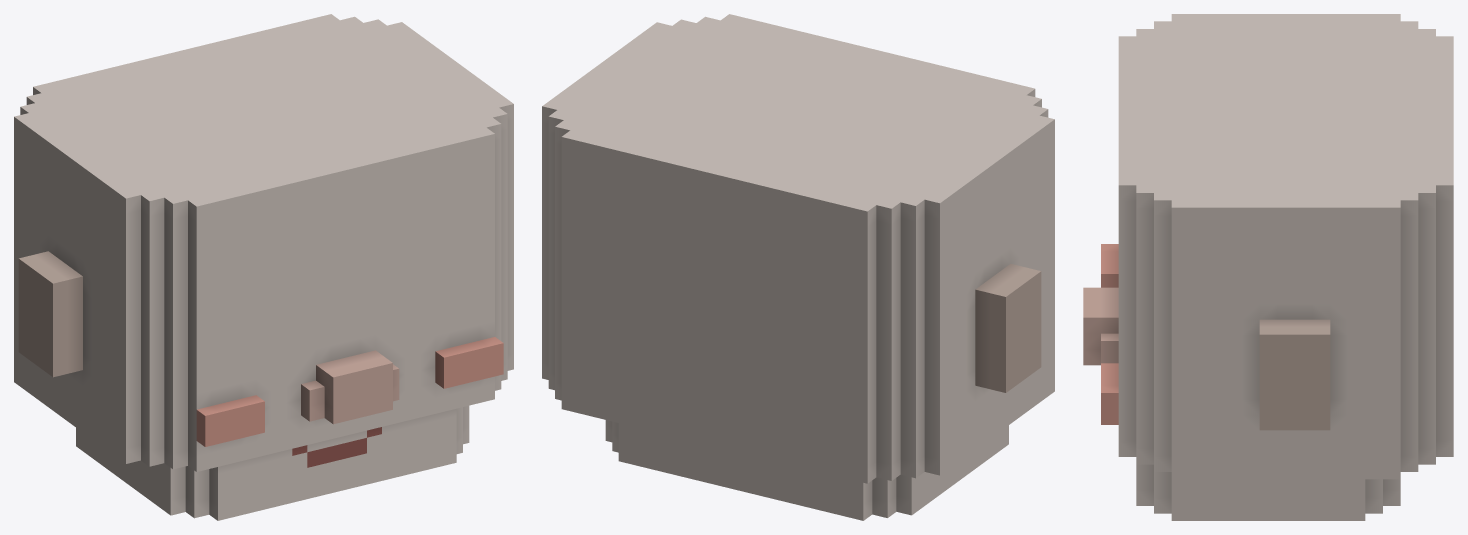
File: head_young.glb
The picture shows the model from 3 angles, left to right: view 1: azimuth 30°, elevation 25°; view 2: azimuth 150°, elevation 25°; view 3: azimuth 270°, elevation 25°; orthographic projection. The views are drawn at different scales.
Visible parts, largest first — view 1: VoxelVisual; view 2: VoxelVisual; view 3: VoxelVisual.
Part boxes in pixels (<box>): VoxelVisual: <box>14,14,513,520</box>; VoxelVisual: <box>542,14,1054,520</box>; VoxelVisual: <box>1083,14,1453,520</box>.
Size of what is drawn, in the model's own units: 1.88 by 1.31 by 1.31.
